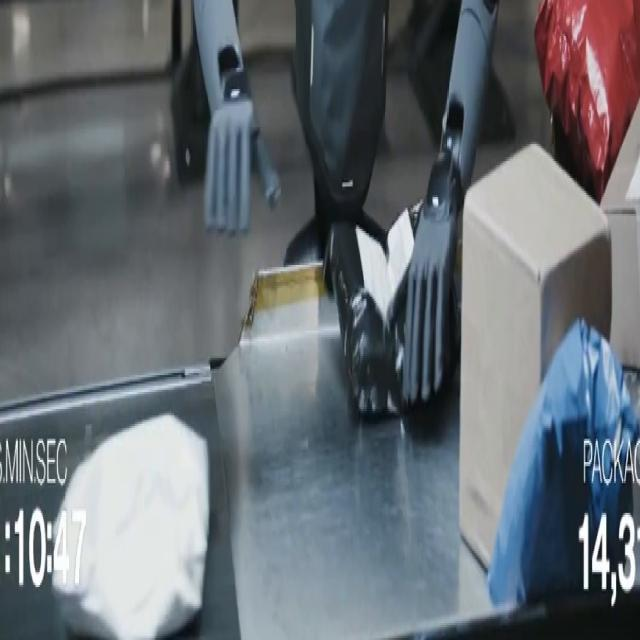package: (460, 145, 611, 565), (488, 320, 638, 606), (52, 416, 209, 639), (535, 0, 639, 201), (325, 202, 421, 417), (601, 106, 639, 368)
